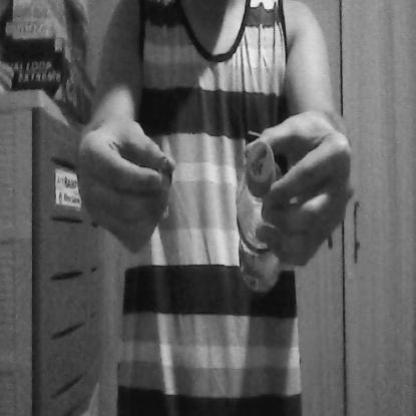Plastic Bottle: (231, 129, 290, 305)
